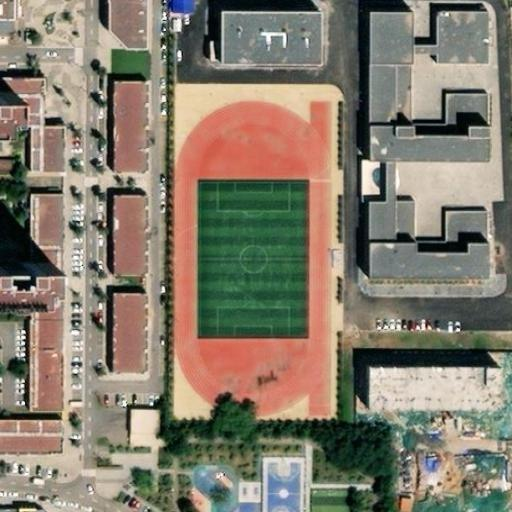building: (371, 18, 491, 78), (369, 377, 497, 421), (226, 12, 326, 65), (30, 137, 62, 291), (376, 258, 493, 296), (377, 146, 497, 181), (116, 91, 153, 181), (115, 203, 149, 287), (116, 302, 148, 387), (376, 77, 411, 147), (111, 7, 151, 64), (377, 180, 402, 258), (439, 87, 486, 123), (447, 223, 487, 258), (0, 10, 21, 51), (135, 423, 164, 452), (0, 500, 57, 512), (0, 108, 13, 143), (402, 216, 415, 251), (392, 491, 409, 512), (0, 153, 14, 171)
